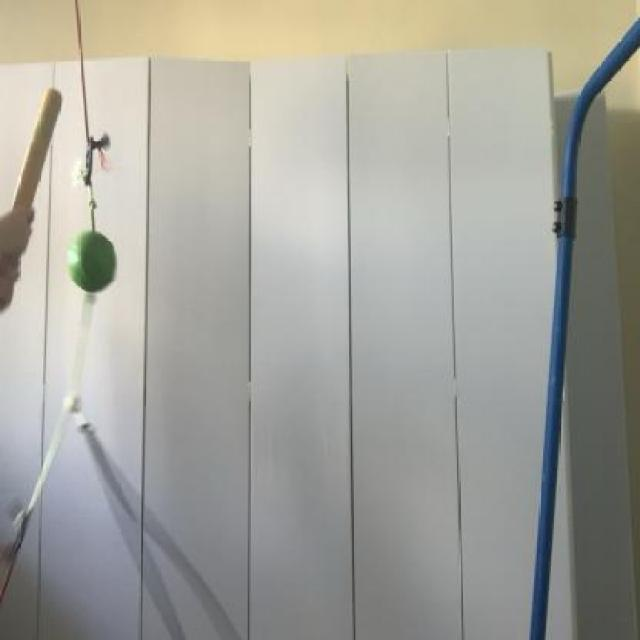baseball: (66, 232, 119, 292)
